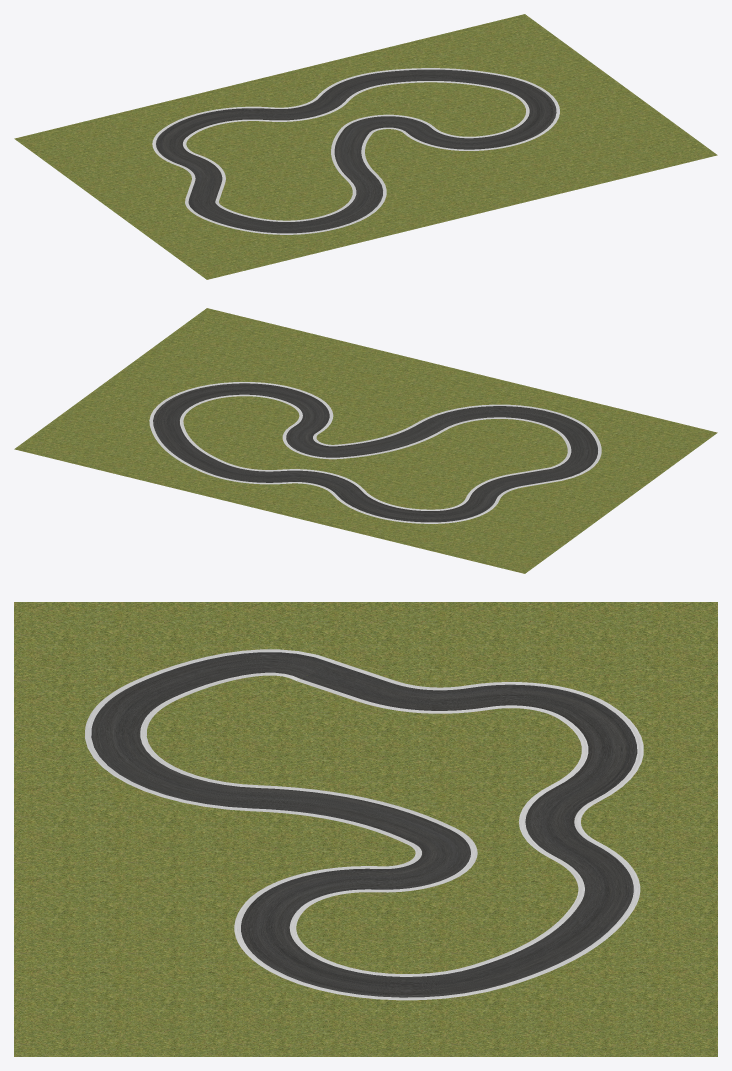
File: loony_track.dae
3 views of the same model, one above another, from view 1: azimuth 30°, elevation 25°; view 2: azimuth 150°, elevation 25°; view 3: azimuth 270°, elevation 25° (orthographic). The views are drawn at different scales.
Visible parts, largest first — view 1: field, road2, outerroad2, innerroad2; view 2: field, road2, outerroad2, innerroad2; view 3: field, road2, outerroad2, innerroad2.
Boxes of the visible parts, box(x1,y1,x2,y2) form: field: box(14, 14, 717, 279); road2: box(156, 69, 556, 233); outerroad2: box(152, 68, 559, 234); innerroad2: box(183, 81, 529, 221); field: box(14, 308, 717, 573); road2: box(153, 383, 597, 522); outerroad2: box(149, 382, 601, 523); innerroad2: box(180, 394, 571, 510); field: box(14, 602, 717, 1056); road2: box(91, 652, 637, 997); outerroad2: box(85, 649, 643, 1000); innerroad2: box(140, 672, 588, 976).
Bounding box in the file's own units: 15.84 × 10.36 × 0.0468.
Materials: 3 (3 with a texture image).
